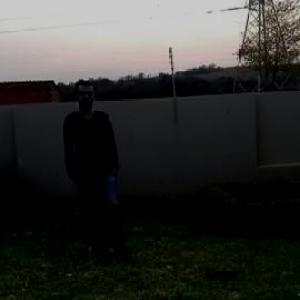follow: (64, 79, 122, 260)
